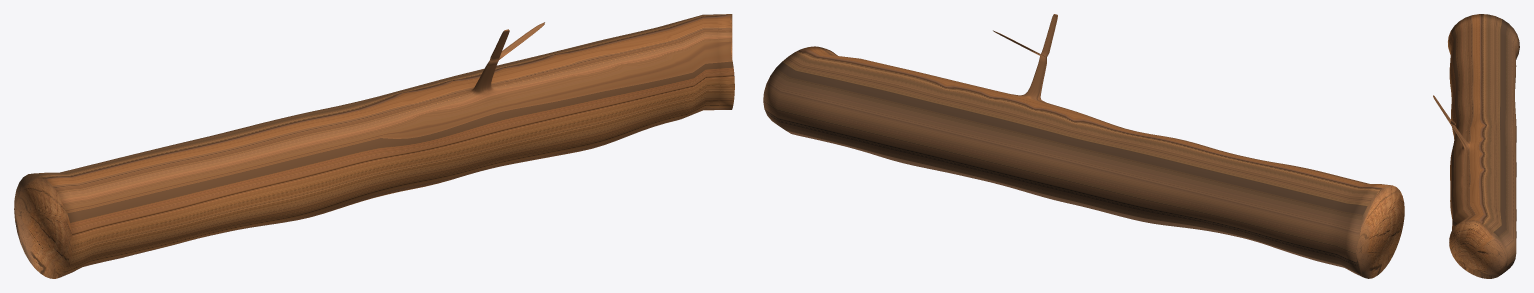
File: brokentrees.fbx
3 renders of one model, left to right at view 1: azimuth 30°, elevation 25°; view 2: azimuth 150°, elevation 25°; view 3: azimuth 270°, elevation 25°, orthographic. The views are drawn at different scales.
Visible parts, largest first — view 1: Cube; view 2: Cube; view 3: Cube.
Boxes of the visible parts, left/top/right/bottom form: Cube: left=14, top=14, right=734, bottom=278; Cube: left=763, top=14, right=1404, bottom=278; Cube: left=1433, top=14, right=1519, bottom=278.
Size of the model in its own units: 694 by 162 by 120.
